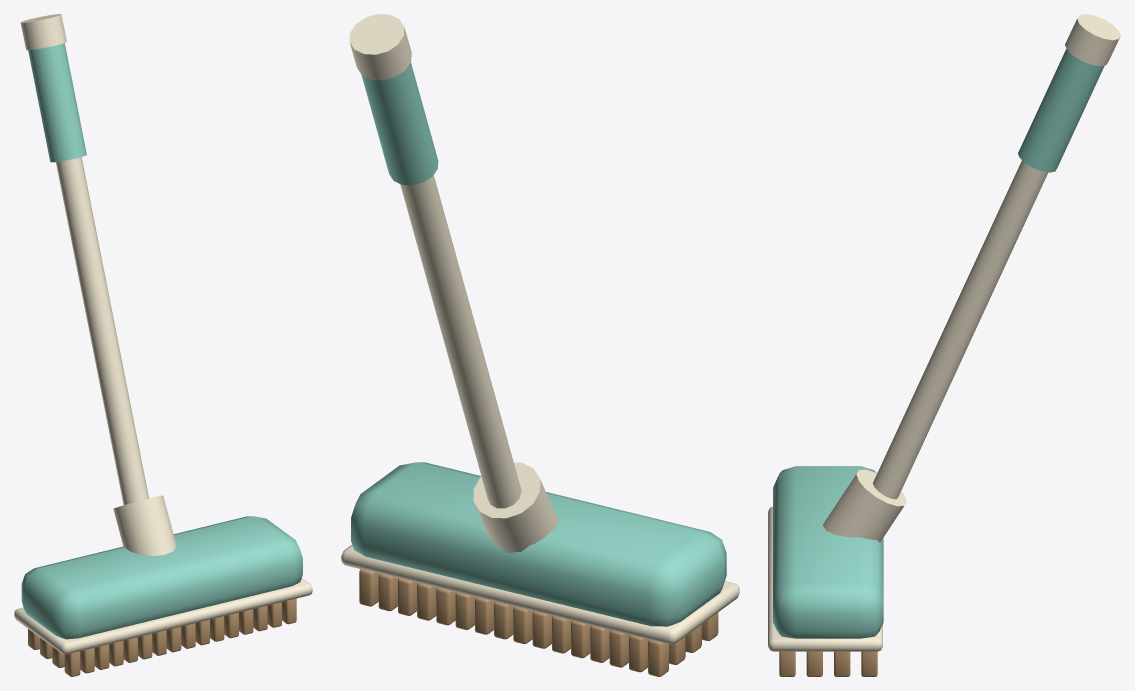
The model's file is tier_2_dense_plastic.glb.
3 renders of one model, left to right at view 1: azimuth 30°, elevation 25°; view 2: azimuth 150°, elevation 25°; view 3: azimuth 270°, elevation 25°, orthographic. The views are drawn at different scales.
Parts seen in each view (by area): view 1: BrushTier2_Dense; view 2: BrushTier2_Dense; view 3: BrushTier2_Dense.
Part boxes in pixels (x1,y1,x2,y2): BrushTier2_Dense: (14,14,312,676); BrushTier2_Dense: (341,14,739,676); BrushTier2_Dense: (768,14,1120,676).
Bounding box in the file's own units: 0.79 × 1.61 × 0.8603.
